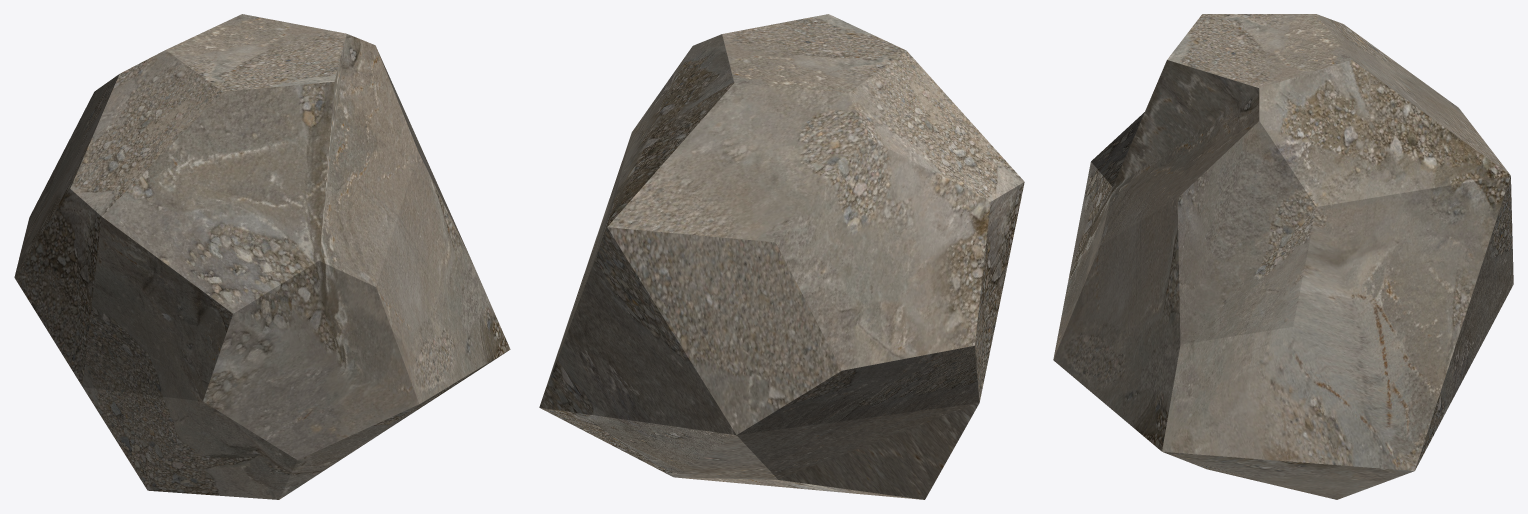
The model's file is meteor_m.fbx.
3 views of the same model, side by side, from view 1: azimuth 30°, elevation 25°; view 2: azimuth 150°, elevation 25°; view 3: azimuth 270°, elevation 25° (orthographic). The views are drawn at different scales.
Parts seen in each view (by area): view 1: metero_m; view 2: metero_m; view 3: metero_m.
Boxes of the visible parts, bbox=[...] form: metero_m: bbox=[14, 14, 510, 499]; metero_m: bbox=[539, 14, 1024, 499]; metero_m: bbox=[1053, 14, 1513, 499].
Size of the model in its own units: 126 by 123 by 125.
Materials: 1 (1 with a texture image).
